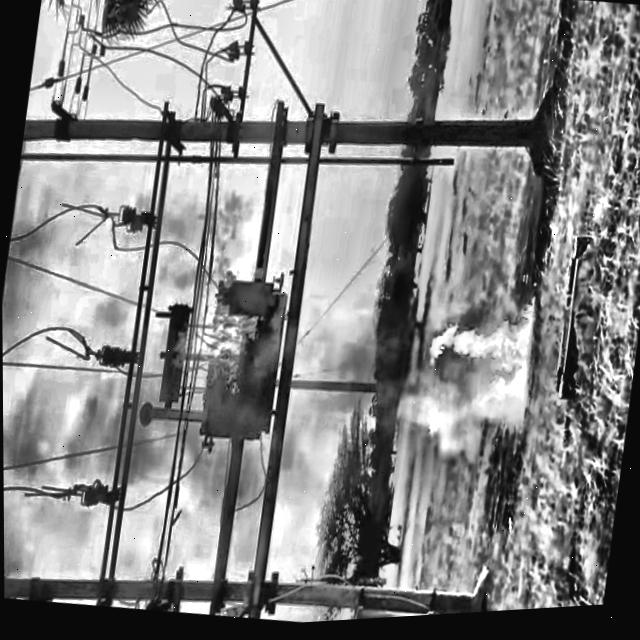Fire: (410, 280, 551, 467), (163, 247, 295, 415)
